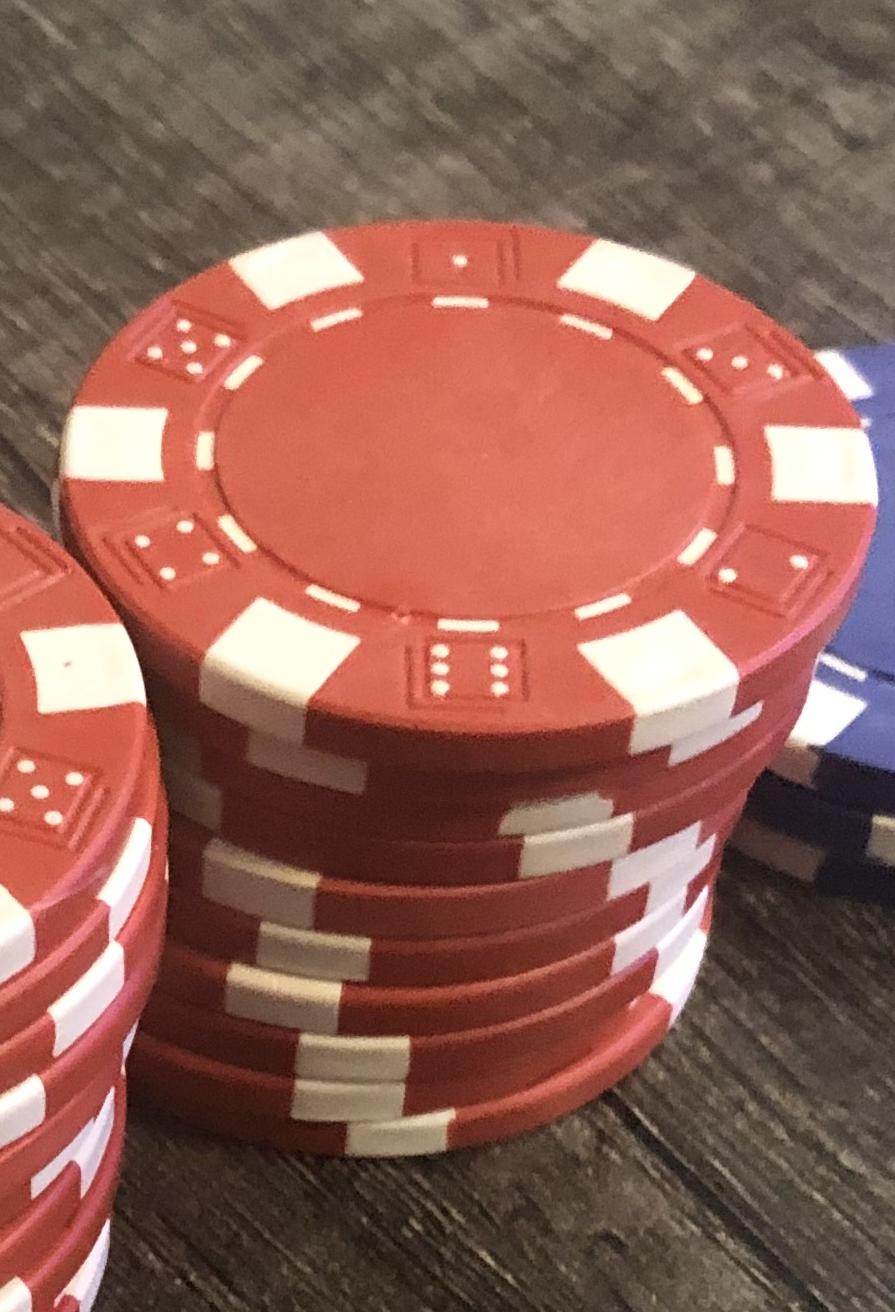Chip: (1, 1, 895, 1312)
